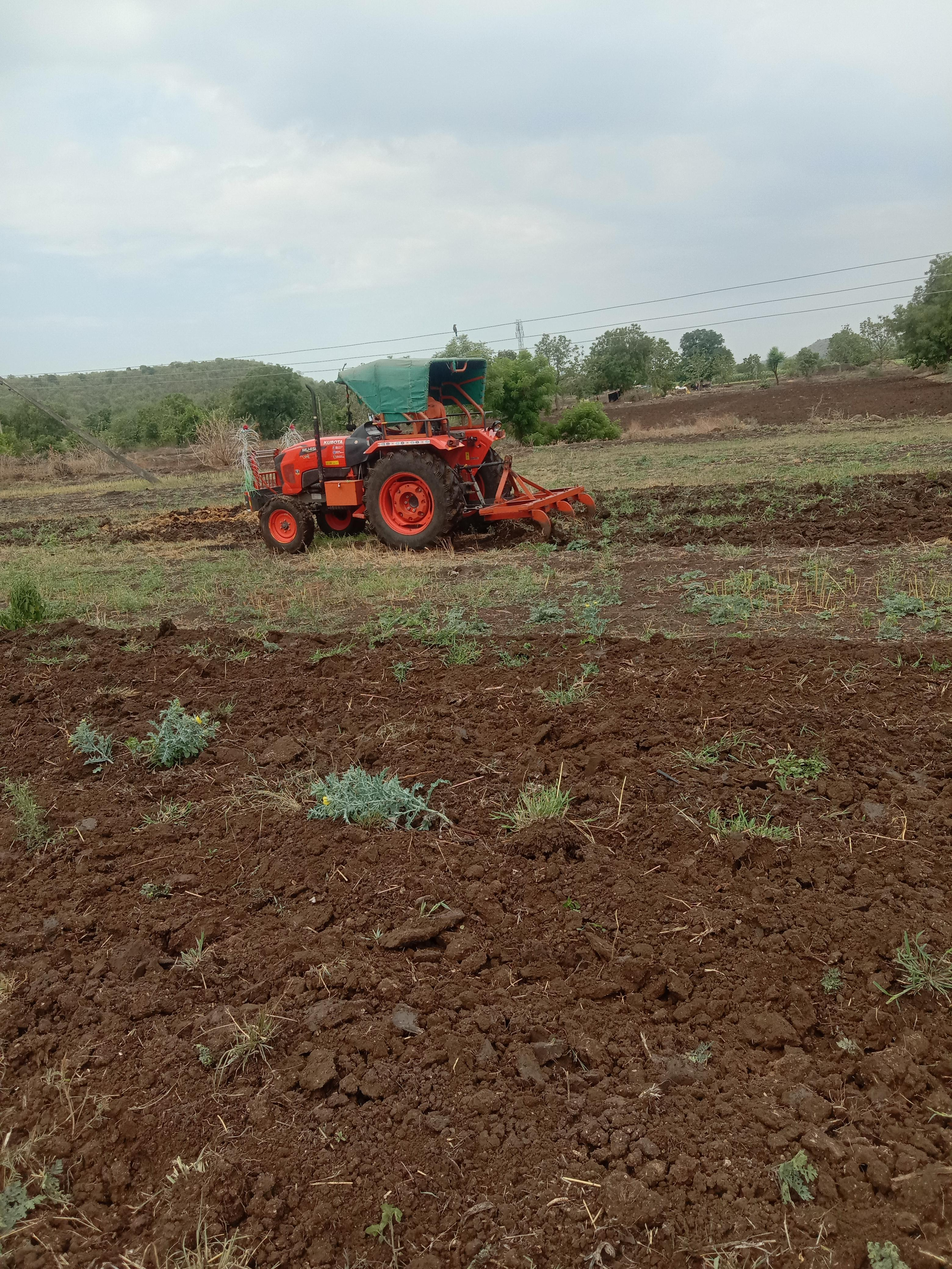non-ambulance: (221, 356, 627, 616)
